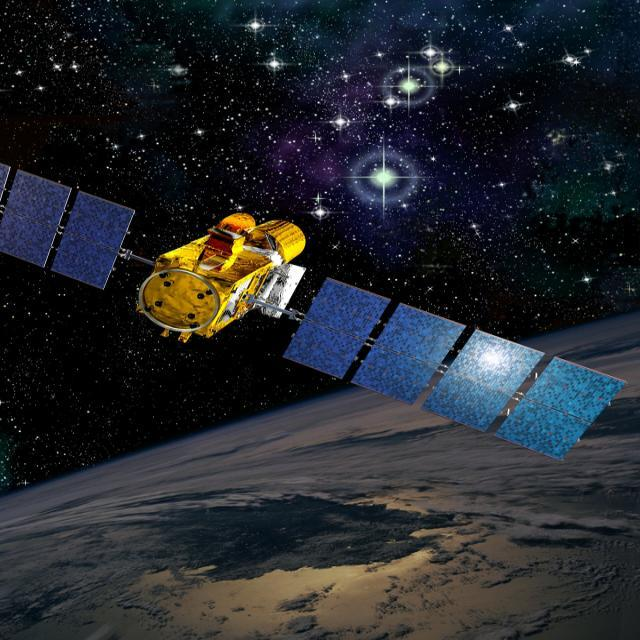sat: (0, 153, 628, 471)
